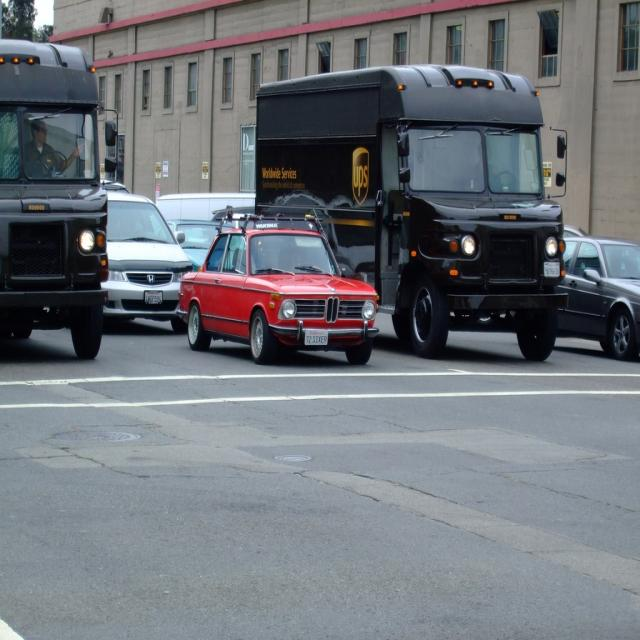ups: (352, 147, 370, 206)
